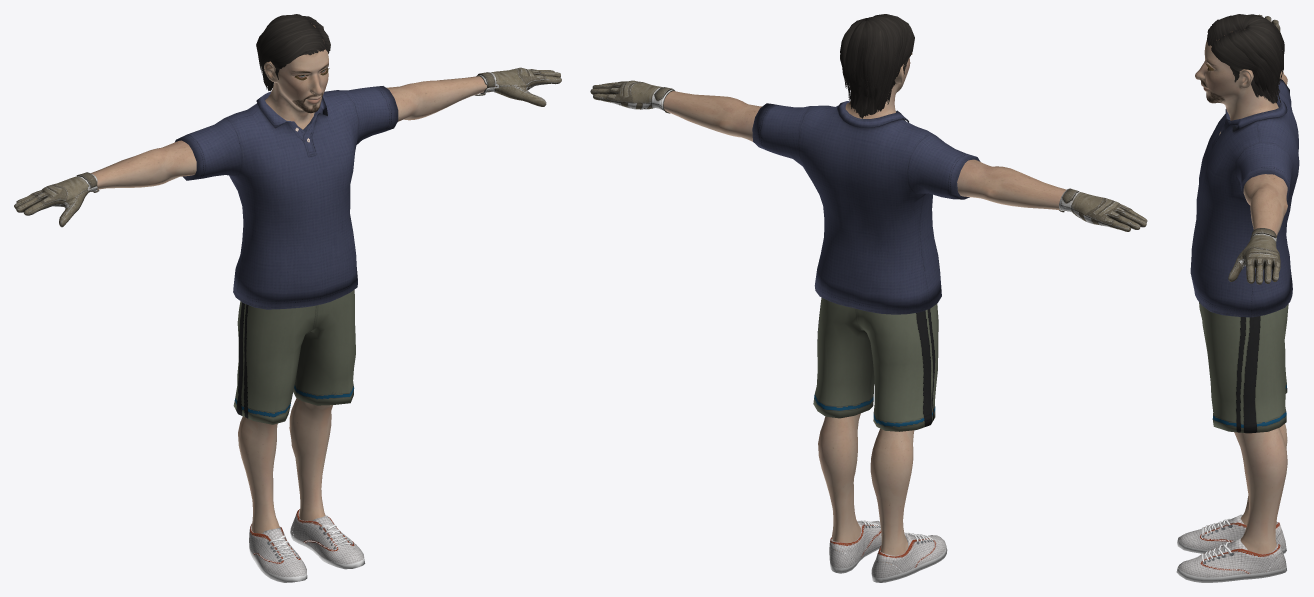
The picture shows the model from 3 angles, left to right: view 1: azimuth 30°, elevation 25°; view 2: azimuth 150°, elevation 25°; view 3: azimuth 270°, elevation 25°; orthographic projection.
Visible parts, largest first — view 1: Tops, Body, Bottoms, Shoes, Gloves, Hair; view 2: Tops, Body, Bottoms, Hair, Gloves, Shoes; view 3: Tops, Body, Bottoms, Shoes, Hair, Gloves.
Boxes of the visible parts, bbox=[...] form: Tops: bbox=[175, 86, 398, 309]; Body: bbox=[89, 23, 495, 539]; Bottoms: bbox=[233, 290, 355, 424]; Shoes: bbox=[249, 509, 365, 582]; Gloves: bbox=[14, 67, 561, 227]; Hair: bbox=[256, 14, 330, 90]; Tops: bbox=[752, 101, 980, 314]; Body: bbox=[663, 58, 1066, 564]; Bottoms: bbox=[813, 297, 938, 431]; Hair: bbox=[840, 14, 914, 118]; Gloves: bbox=[590, 80, 1147, 231]; Shoes: bbox=[829, 520, 947, 582]; Tops: bbox=[1190, 79, 1299, 317]; Body: bbox=[1195, 31, 1287, 556]; Bottoms: bbox=[1199, 302, 1288, 433]; Shoes: bbox=[1176, 514, 1286, 582]; Hair: bbox=[1207, 14, 1284, 103]; Gloves: bbox=[1228, 14, 1280, 284].
Size of the model in its own units: 194 by 183 by 37.48.
Materials: 6 (6 with a texture image).
